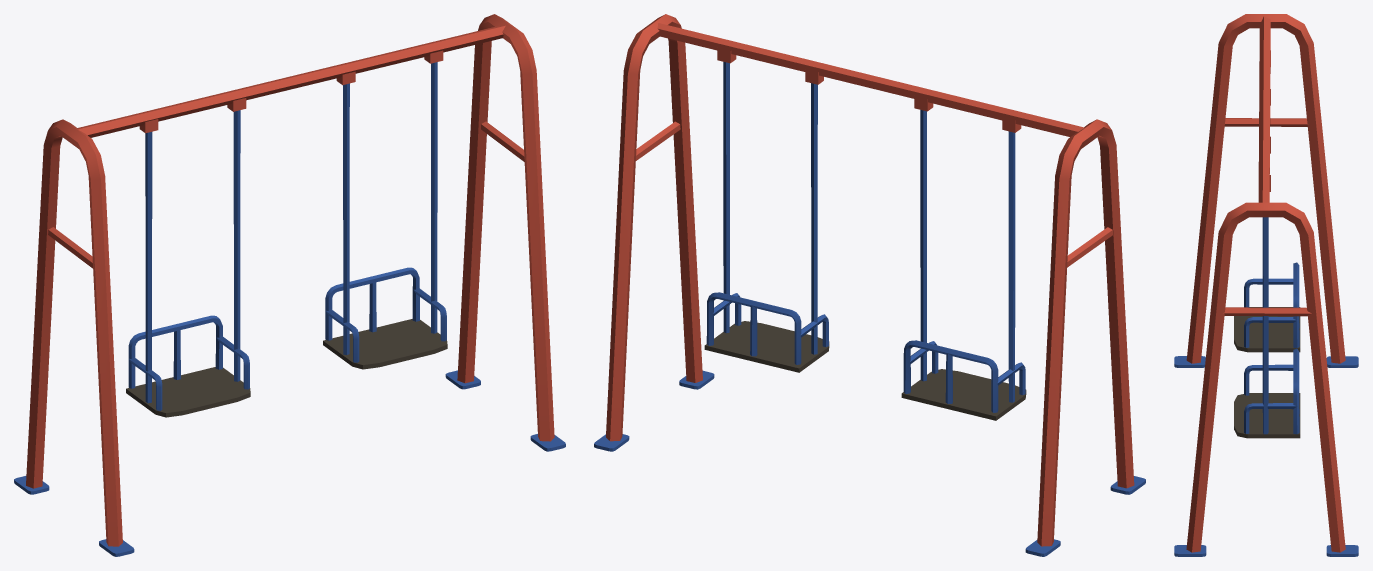
The model's file is swing2.glb.
The picture shows the model from 3 angles, left to right: view 1: azimuth 30°, elevation 25°; view 2: azimuth 150°, elevation 25°; view 3: azimuth 270°, elevation 25°; orthographic projection. The views are drawn at different scales.
Parts seen in each view (by area): view 1: SM_Swings_03; view 2: SM_Swings_03; view 3: SM_Swings_03.
Part boxes in pixels (x1=…): SM_Swings_03: x1=14, y1=14, x2=565, y2=556; SM_Swings_03: x1=594, y1=14, x2=1145, y2=556; SM_Swings_03: x1=1174, y1=14, x2=1358, y2=556.
Size of the model in its own units: 3.07 by 2.53 by 1.21.
1 material, 1 textured.
